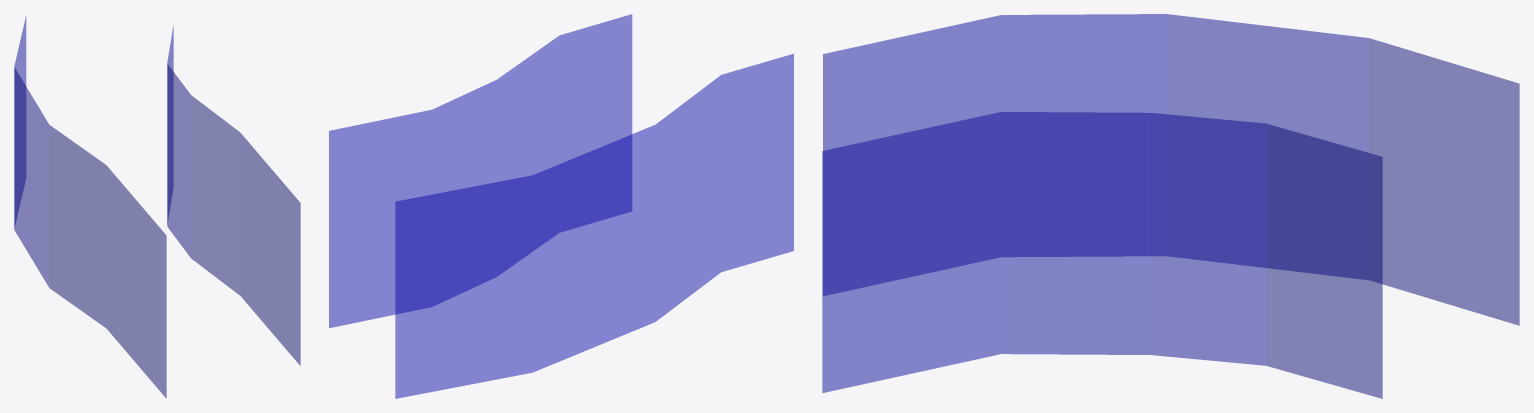
File: track_military_coll_wall_15.fbx
3 renders of one model, left to right at view 1: azimuth 30°, elevation 25°; view 2: azimuth 150°, elevation 25°; view 3: azimuth 270°, elevation 25°, orthographic. The views are drawn at different scales.
Parts seen in each view (by area): view 1: track_military_coll_wall_15; view 2: track_military_coll_wall_15; view 3: track_military_coll_wall_15.
Part boxes in pixels (left/top/right/bottom): track_military_coll_wall_15: left=14, top=16, right=300, bottom=398; track_military_coll_wall_15: left=329, top=14, right=793, bottom=398; track_military_coll_wall_15: left=822, top=14, right=1519, bottom=398.
Size of the model in its own units: 39.99 by 36.76 by 82.57.
